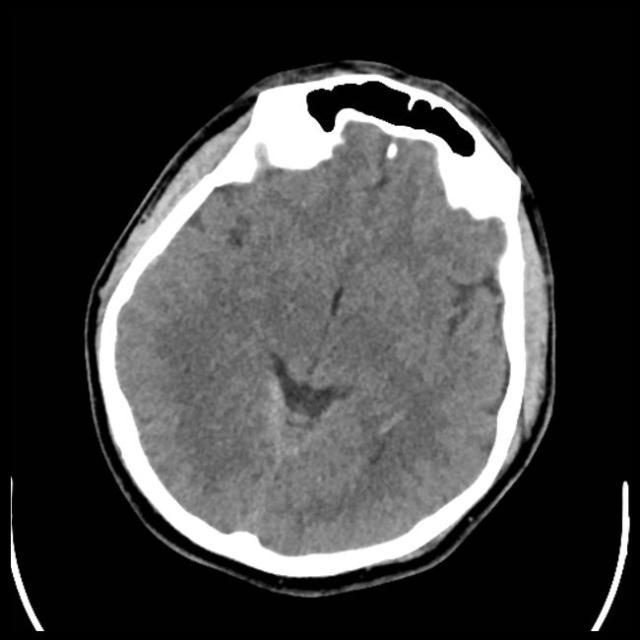lesion: (87, 65, 552, 582)
